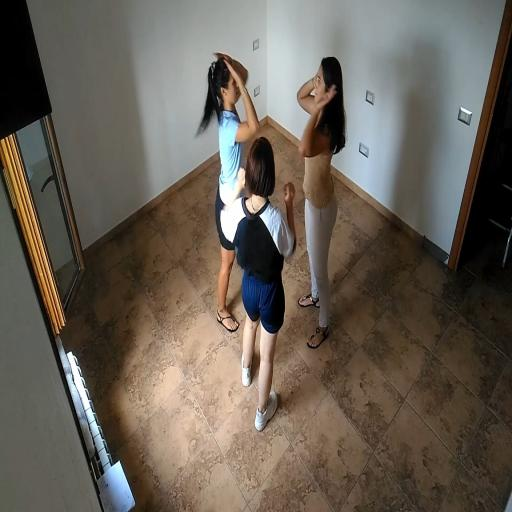nao-violencia: (184, 35, 350, 441)
